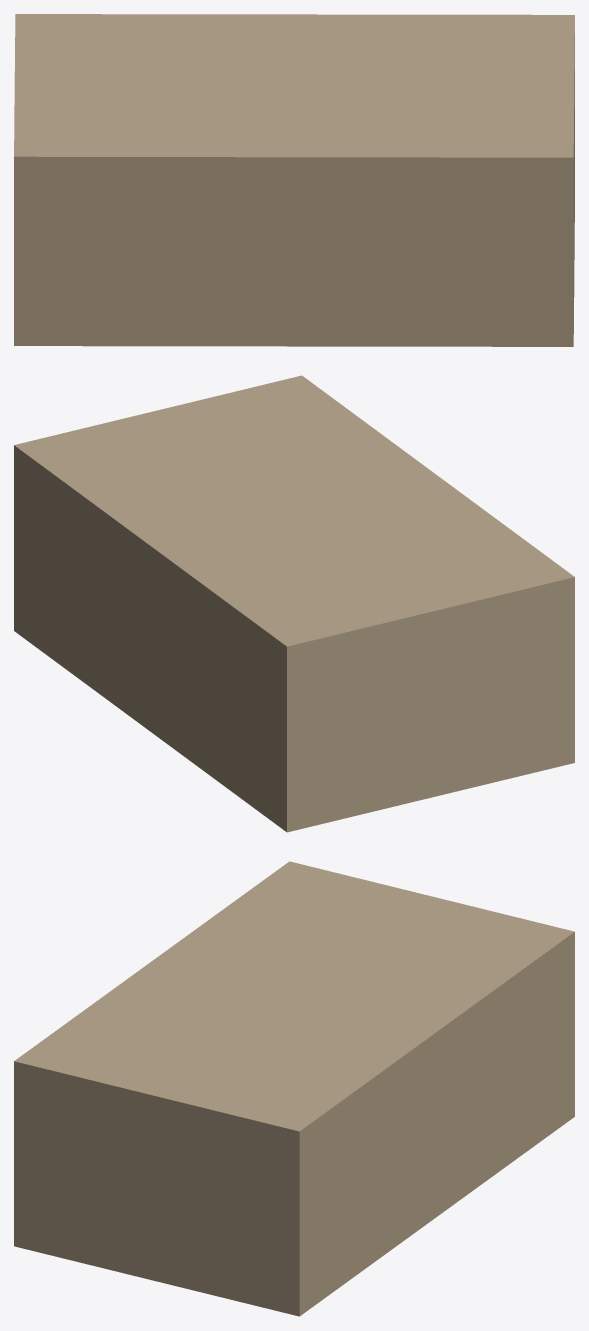
Rendered from bld_977330733.dae.
3 views of the same model, one above another, from view 1: azimuth 30°, elevation 25°; view 2: azimuth 150°, elevation 25°; view 3: azimuth 270°, elevation 25° (orthographic). The views are drawn at different scales.
Parts seen in each view (by area): view 1: Felsted School Sports Centre; view 2: Felsted School Sports Centre; view 3: Felsted School Sports Centre.
Part boxes in pixels (x1,y1,x2,y2): Felsted School Sports Centre: (14,14,574,346); Felsted School Sports Centre: (14,375,574,832); Felsted School Sports Centre: (14,861,574,1316).
Bounding box in the file's own units: 37.57 × 32.96 × 12.
